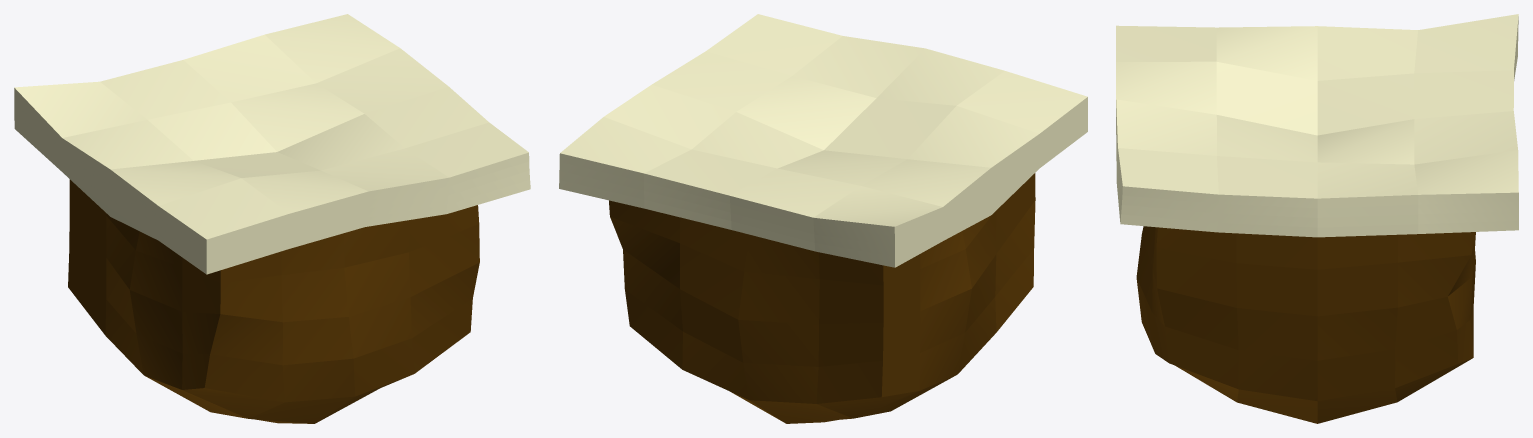
File: white_tile.gltf
The picture shows the model from 3 angles, left to right: view 1: azimuth 30°, elevation 25°; view 2: azimuth 150°, elevation 25°; view 3: azimuth 270°, elevation 25°; orthographic projection. The views are drawn at different scales.
Parts seen in each view (by area): view 1: Plane; view 2: Plane; view 3: Plane.
Part boxes in pixels (x1=…): Plane: x1=14, y1=14, x2=530, y2=423; Plane: x1=559, y1=14, x2=1087, y2=423; Plane: x1=1116, y1=14, x2=1518, y2=423.
Size of the model in its own units: 2.57 by 2.19 by 2.5.
